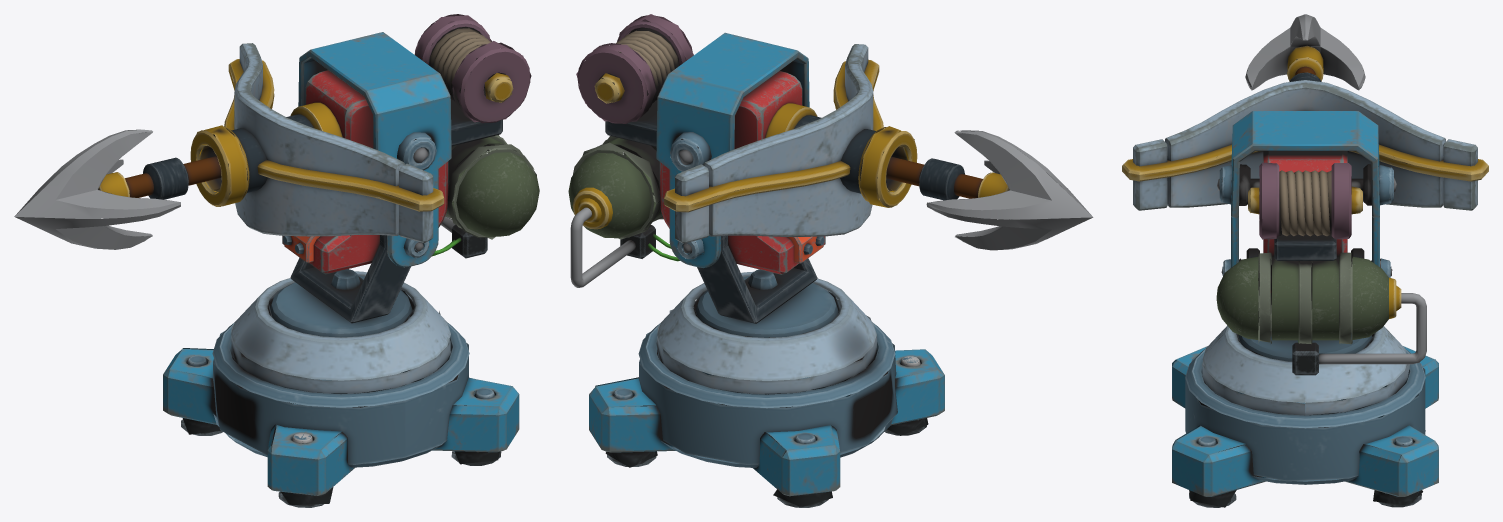
The model's file is harpoon_turret_lod_no_sight.glb.
The picture shows the model from 3 angles, left to right: view 1: azimuth 30°, elevation 25°; view 2: azimuth 150°, elevation 25°; view 3: azimuth 270°, elevation 25°; orthographic projection. The views are drawn at different scales.
Parts seen in each view (by area): view 1: Harpoon009, Harpoon001, Harpoon002, Harpoon033, Harpoon010, Harpoon017, Harpoon040, Harpoon020, Harpoon006, Harpoon019, Harpoon038, Harpoon029 (+11 smaller); view 2: Harpoon001, Harpoon009, Harpoon002, Harpoon033, Harpoon010, Harpoon017, Harpoon040, Harpoon020, Harpoon006, Harpoon019, Harpoon038, Harpoon029 (+12 smaller); view 3: Harpoon009, Harpoon001, Harpoon002, Harpoon033, Harpoon020, Harpoon010, Harpoon017, Harpoon021, Harpoon040, Harpoon038, Harpoon012, Harpoon028 (+7 smaller).
Boxes of the visible parts, x1,y1,x2,y2 form: Harpoon009: [234, 43, 433, 243]; Harpoon001: [212, 322, 469, 467]; Harpoon002: [231, 271, 450, 407]; Harpoon033: [163, 348, 519, 495]; Harpoon010: [298, 32, 451, 267]; Harpoon017: [14, 129, 180, 249]; Harpoon040: [414, 14, 531, 123]; Harpoon020: [446, 137, 539, 236]; Harpoon006: [282, 70, 448, 274]; Harpoon019: [290, 235, 410, 323]; Harpoon038: [224, 59, 444, 211]; Harpoon029: [270, 275, 412, 337]; Harpoon001: [638, 323, 897, 467]; Harpoon009: [675, 44, 873, 243]; Harpoon002: [657, 271, 876, 407]; Harpoon033: [589, 349, 944, 496]; Harpoon010: [656, 32, 809, 267]; Harpoon017: [926, 130, 1093, 250]; Harpoon040: [576, 14, 693, 123]; Harpoon020: [568, 138, 661, 238]; Harpoon006: [659, 71, 825, 274]; Harpoon019: [697, 235, 817, 323]; Harpoon038: [664, 59, 883, 212]; Harpoon029: [695, 275, 838, 337]; Harpoon009: [1133, 80, 1477, 210]; Harpoon001: [1185, 348, 1425, 484]; Harpoon002: [1202, 325, 1409, 427]; Harpoon033: [1172, 346, 1438, 496]; Harpoon020: [1216, 256, 1401, 340]; Harpoon010: [1231, 111, 1379, 267]; Harpoon017: [1245, 14, 1365, 90]; Harpoon021: [1258, 252, 1352, 344]; Harpoon040: [1248, 162, 1362, 239]; Harpoon038: [1122, 144, 1488, 181]; Harpoon012: [1279, 170, 1331, 236]; Harpoon028: [1217, 164, 1396, 277].
Size of the model in its own units: 6.04 by 4.38 by 4.12.
Materials: 1 (1 with a texture image).
